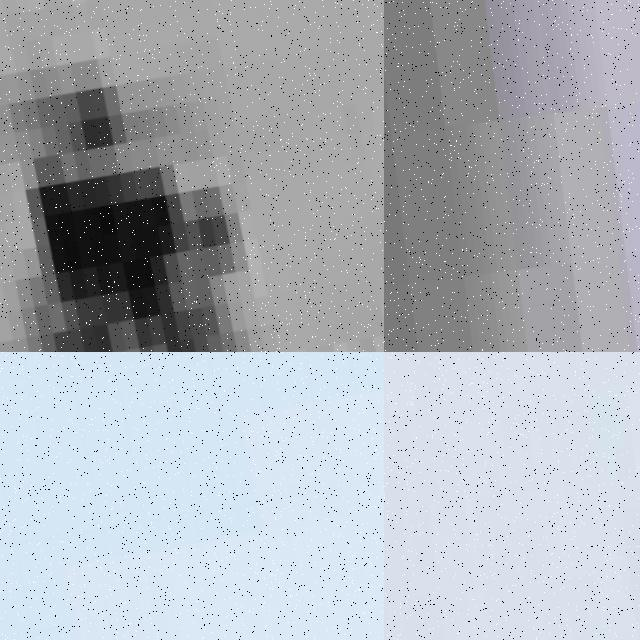0: (0, 0, 384, 352)
drone: (0, 352, 384, 640)
